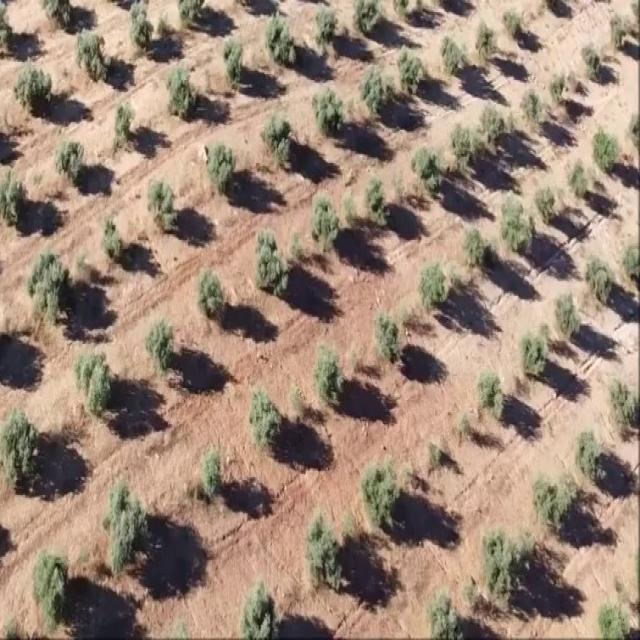trees: (101, 482, 153, 574), (79, 344, 122, 420), (0, 409, 37, 496), (29, 549, 71, 625), (32, 251, 76, 322), (247, 384, 289, 456), (251, 226, 293, 298), (14, 54, 56, 123), (481, 530, 520, 604), (307, 514, 348, 584), (310, 339, 348, 411), (73, 25, 115, 85), (366, 453, 398, 531), (514, 323, 552, 388), (165, 60, 202, 126), (530, 476, 576, 526), (262, 10, 301, 67), (501, 191, 536, 254), (146, 314, 182, 372), (608, 372, 640, 437), (310, 186, 342, 250), (196, 269, 233, 324), (147, 181, 185, 234), (310, 84, 350, 134), (263, 114, 299, 169), (590, 121, 623, 179), (126, 0, 161, 54), (209, 143, 243, 198), (98, 213, 130, 271), (552, 288, 584, 345), (361, 60, 393, 116), (109, 96, 145, 145), (58, 136, 91, 188), (448, 117, 478, 174), (589, 251, 615, 310), (580, 426, 606, 484), (220, 37, 250, 86), (395, 44, 421, 99), (421, 258, 449, 309), (414, 142, 442, 192), (364, 170, 389, 226), (464, 223, 493, 270), (438, 32, 467, 77), (201, 446, 227, 496), (480, 102, 508, 147), (315, 6, 342, 52), (520, 85, 548, 128), (480, 367, 507, 411), (376, 312, 399, 359), (476, 18, 496, 66)
